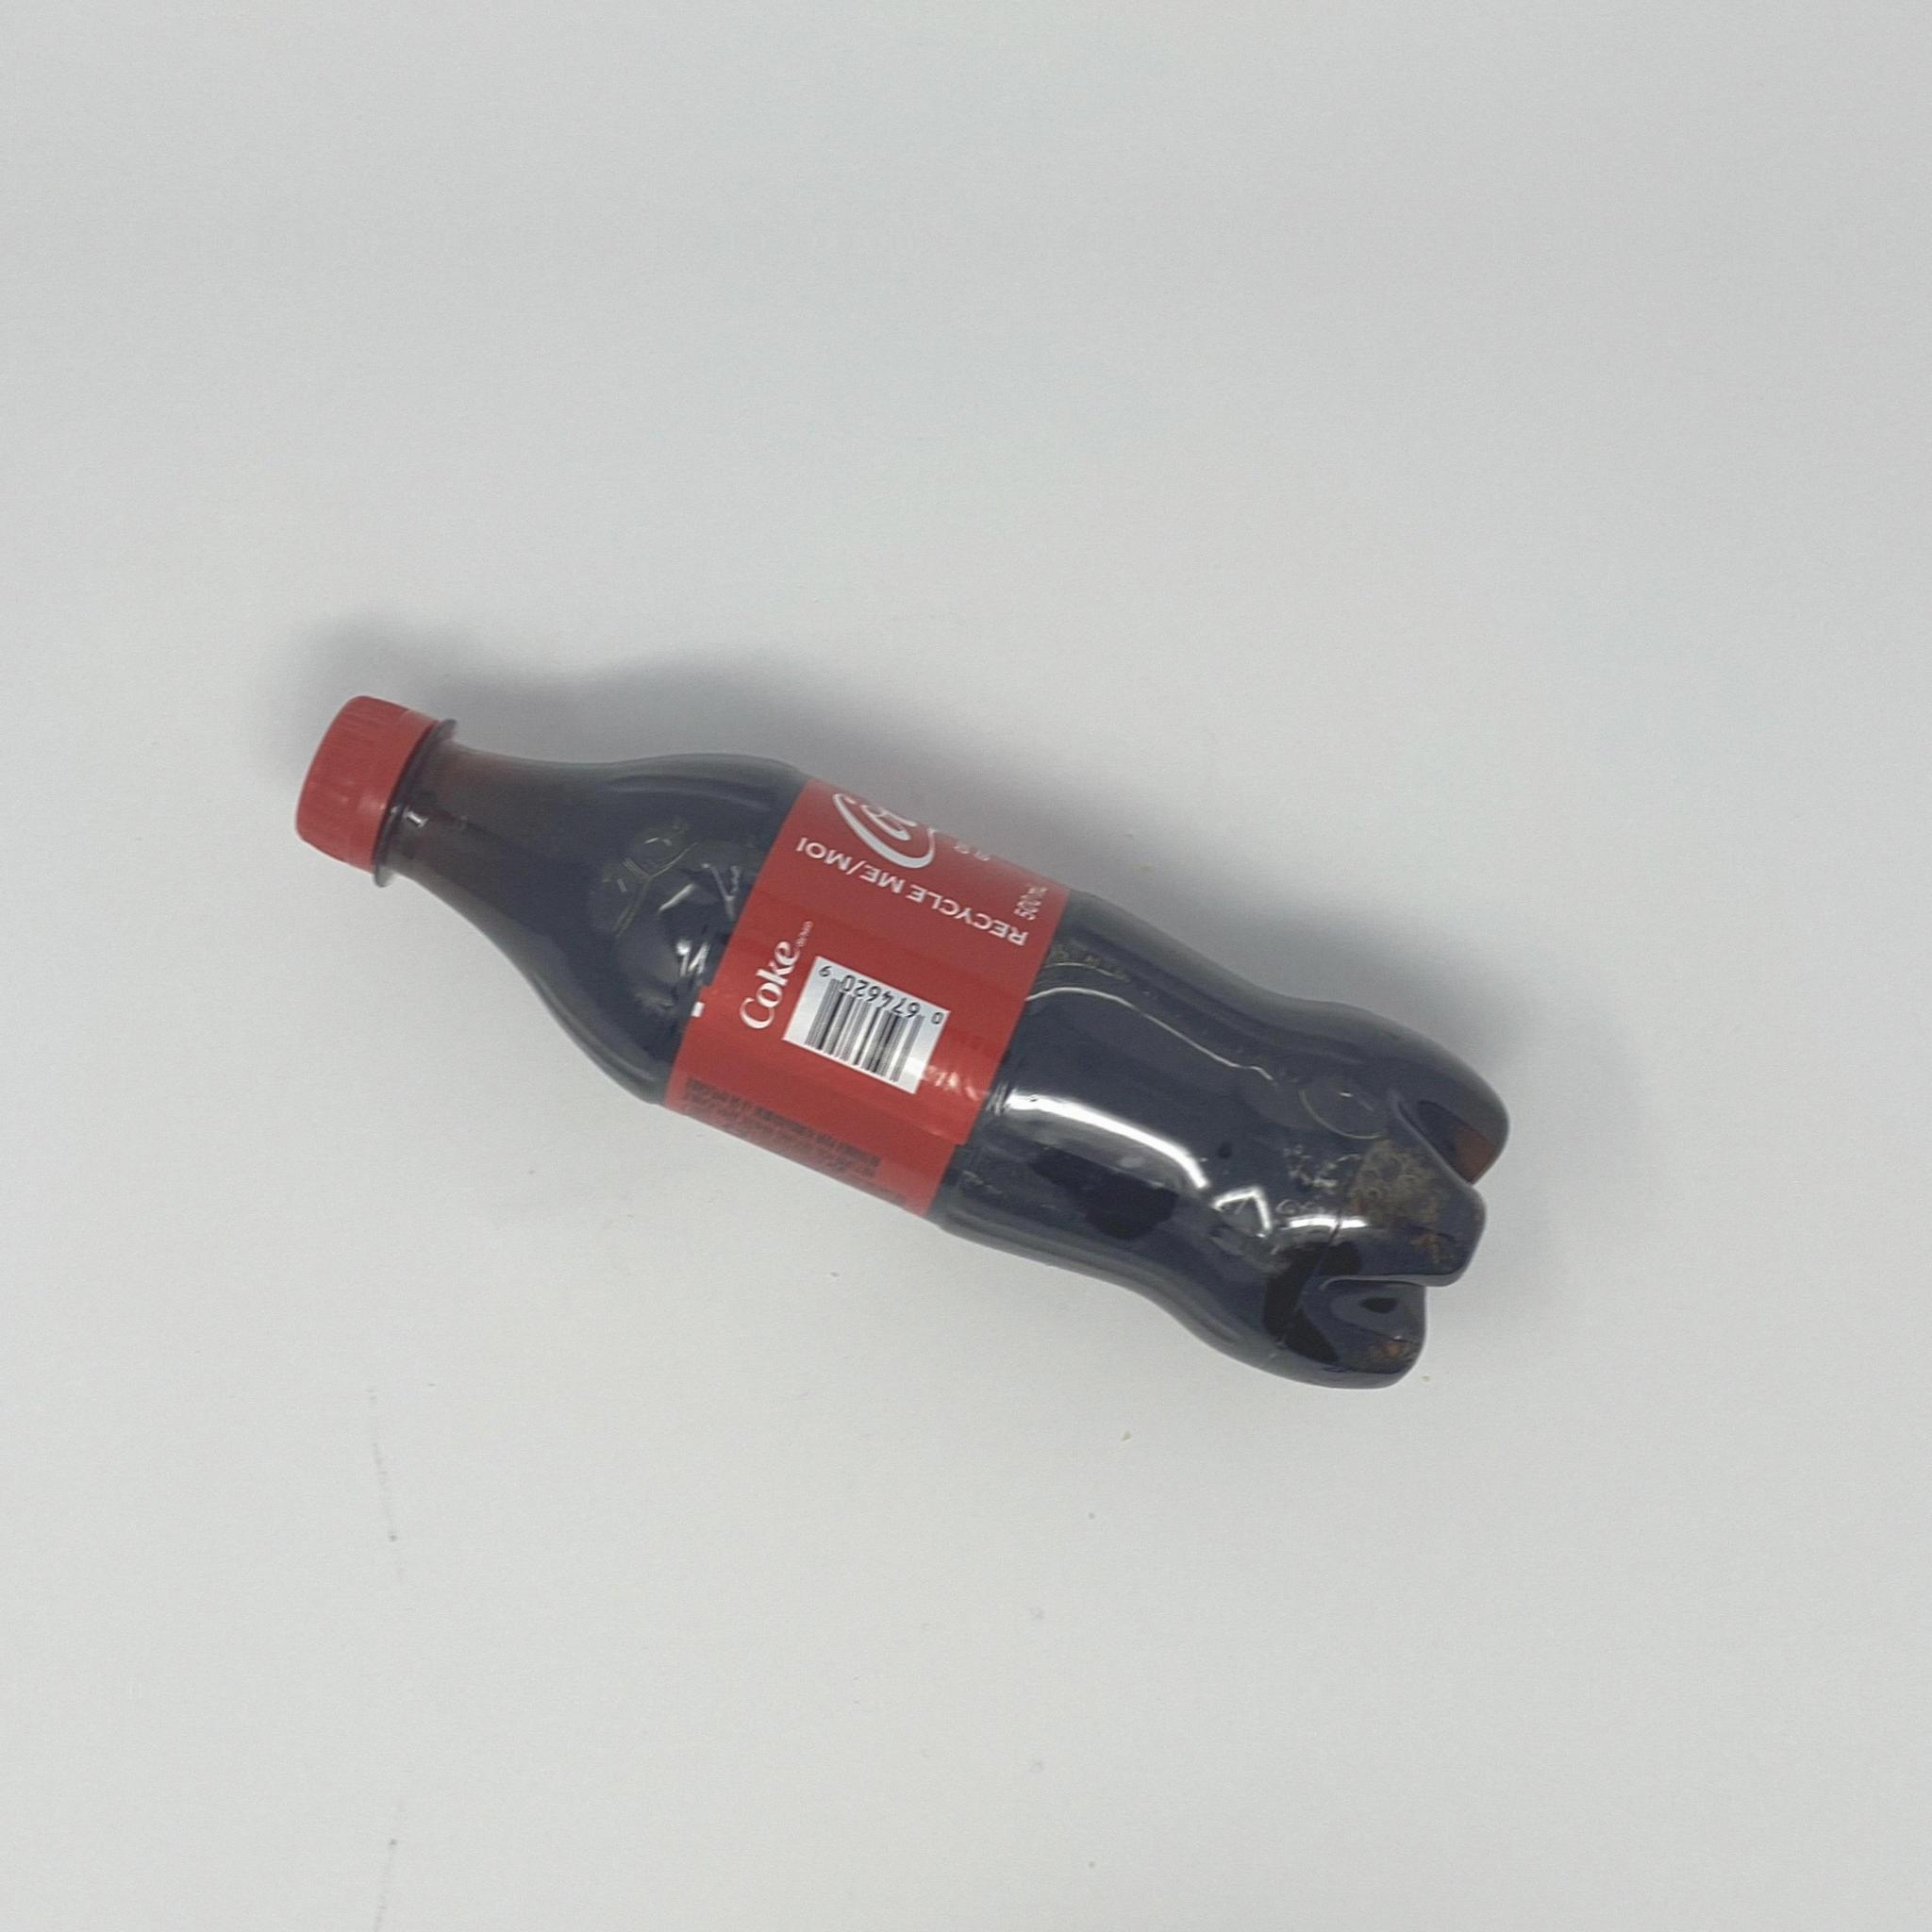PET: (294, 692, 1511, 1392)
cocacola: (294, 692, 1511, 1392)
plastic: (294, 692, 1511, 1392)
soft-drink: (294, 692, 1511, 1392)
